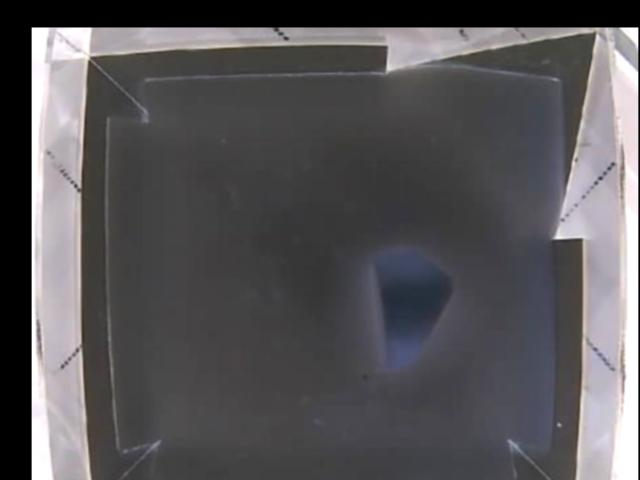Mooli: (371, 246, 452, 374)
